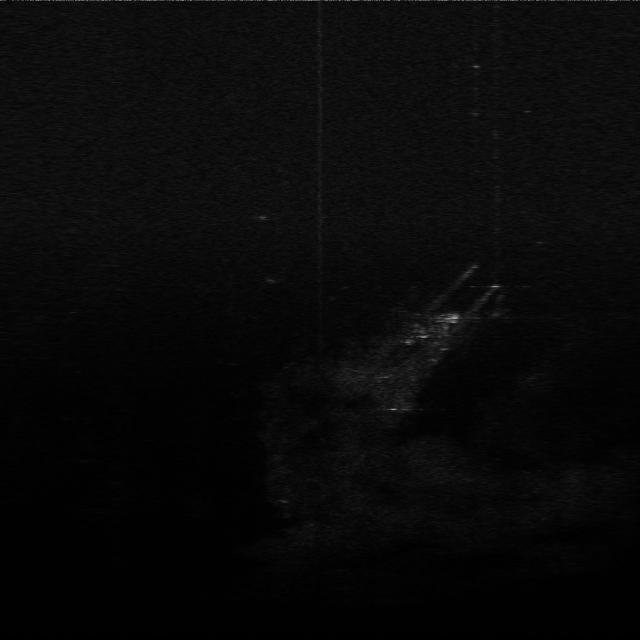rov: (438, 308, 466, 329)
